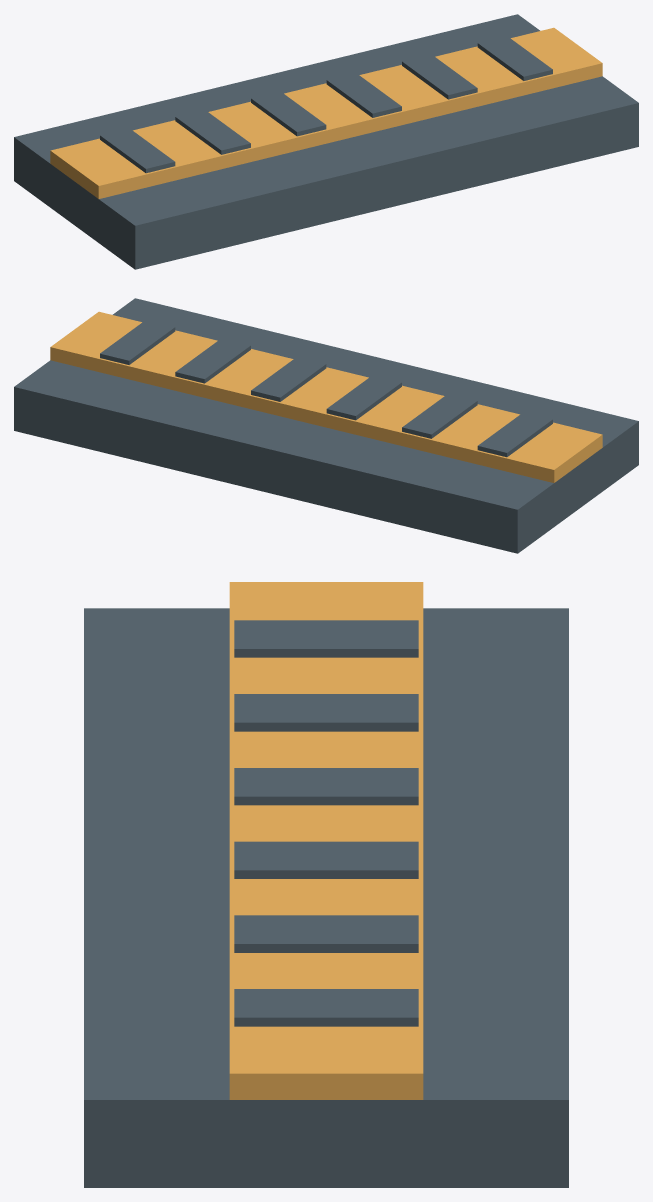
Rendered from american-football-stadium-kit-cable-bridge-883e950e__22320.glb.
3 views of the same model, one above another, from view 1: azimuth 30°, elevation 25°; view 2: azimuth 150°, elevation 25°; view 3: azimuth 270°, elevation 25° (orthographic). The views are drawn at different scales.
Parts seen in each view (by area): view 1: cable-bridge; view 2: cable-bridge; view 3: cable-bridge.
Part boxes in pixels (x1,y1,x2,y2): cable-bridge: [14, 14, 638, 269]; cable-bridge: [14, 298, 638, 553]; cable-bridge: [84, 582, 568, 1187].
Bounding box in the file's own units: 1.2 × 0.14 × 0.5.
